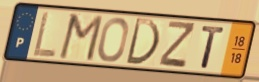D: (123, 17, 161, 68)
L: (31, 10, 58, 59)
M: (56, 12, 105, 64)
O: (96, 16, 131, 64)
T: (200, 24, 227, 71)
Z: (157, 19, 198, 70)
